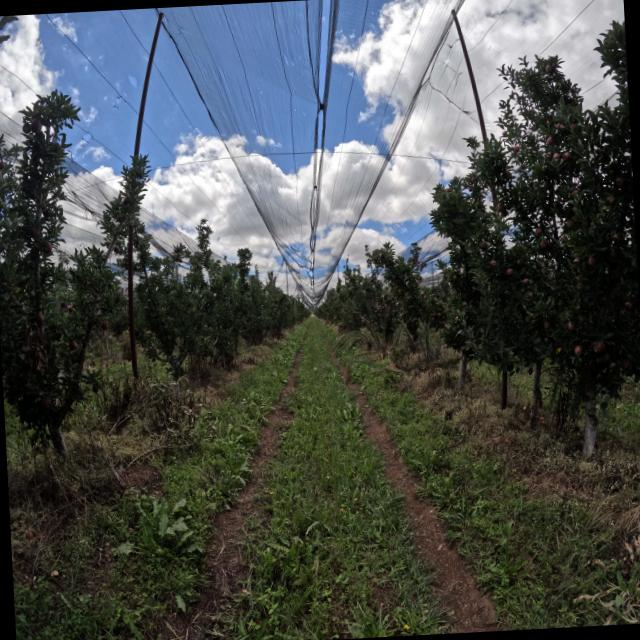-FireBlight-: (24, 319, 49, 373)
